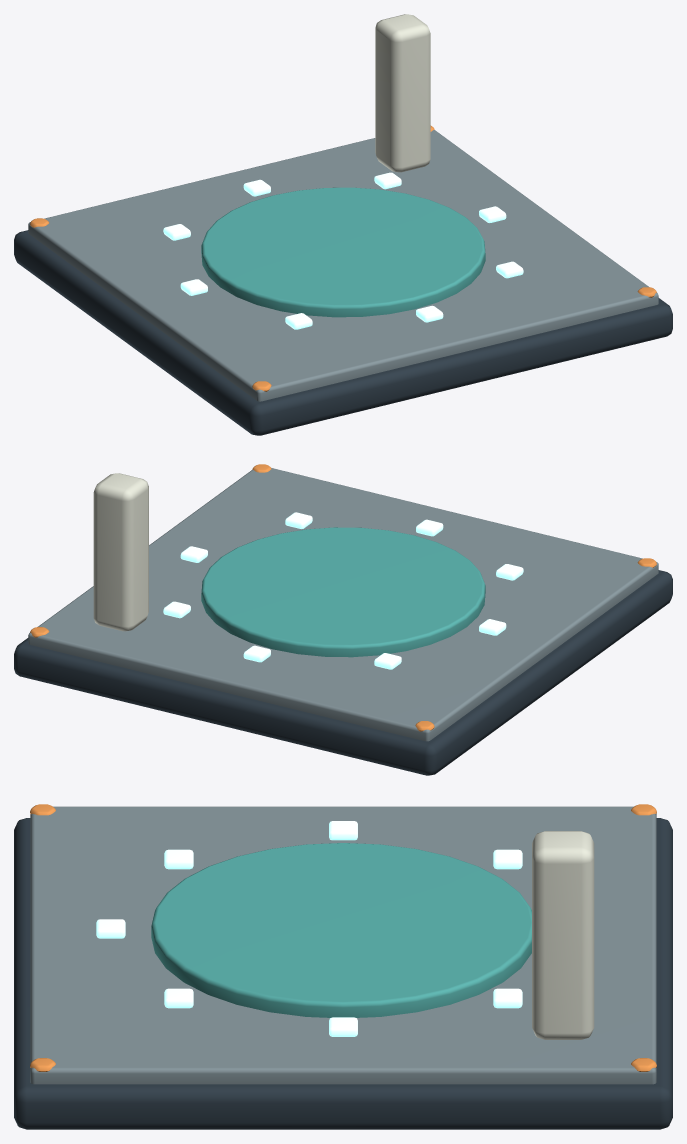
File: charger.glb
3 renders of one model, top to bottom at view 1: azimuth 30°, elevation 25°; view 2: azimuth 150°, elevation 25°; view 3: azimuth 270°, elevation 25°, orthographic. The views are drawn at different scales.
Visible parts, largest first — view 1: Inset apron, Charging contact, Foundation graphite, Charge terminal, Charge marker; view 2: Inset apron, Charging contact, Foundation graphite, Charge terminal, Charge marker, Foundation anchor; view 3: Inset apron, Charging contact, Foundation graphite, Charge terminal, Charge marker, Foundation anchor.
Boxes of the visible parts, x1=… form: Inset apron: x1=28, y1=130, x2=658, y2=401; Charging contact: x1=201, y1=187, x2=485, y2=317; Foundation graphite: x1=14, y1=230, x2=672, y2=435; Charge terminal: x1=375, y1=14, x2=430, y2=172; Charge marker: x1=163, y1=172, x2=523, y2=329; Inset apron: x1=28, y1=468, x2=658, y2=741; Charging contact: x1=201, y1=527, x2=485, y2=657; Foundation graphite: x1=14, y1=570, x2=672, y2=775; Charge terminal: x1=93, y1=473, x2=148, y2=631; Charge marker: x1=163, y1=512, x2=523, y2=669; Foundation anchor: x1=30, y1=464, x2=656, y2=731; Inset apron: x1=30, y1=806, x2=656, y2=1084; Charging contact: x1=151, y1=843, x2=531, y2=1017; Foundation graphite: x1=14, y1=818, x2=672, y2=1129; Charge terminal: x1=532, y1=831, x2=594, y2=1039; Charge marker: x1=96, y1=821, x2=522, y2=1036; Foundation anchor: x1=30, y1=804, x2=656, y2=1071.
Size of the model in its own units: 3.6 by 1.5 by 3.6.
